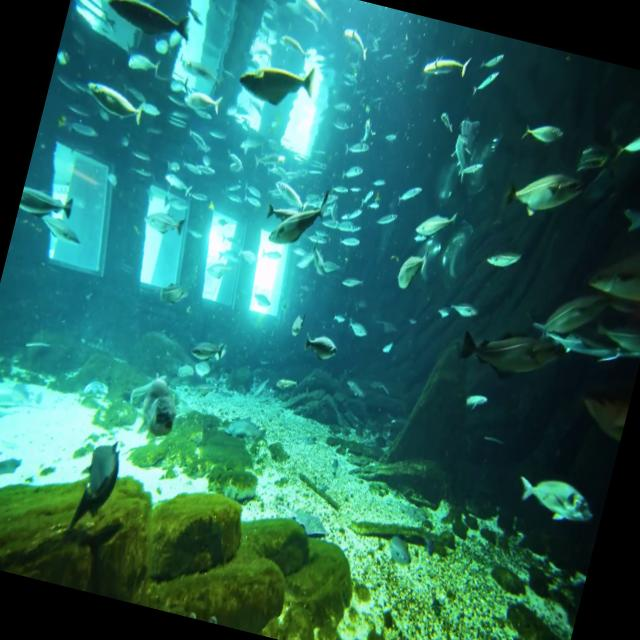fish: (452, 307, 570, 398), (498, 148, 592, 235), (229, 44, 318, 130), (63, 428, 130, 538), (508, 459, 602, 533), (531, 272, 612, 357), (260, 180, 335, 262), (575, 232, 640, 316), (72, 70, 153, 136), (100, 0, 192, 47), (476, 229, 532, 287), (180, 315, 233, 376), (17, 178, 83, 225), (446, 128, 491, 182), (517, 106, 567, 154), (420, 40, 472, 86), (408, 202, 456, 250), (611, 174, 640, 253), (278, 0, 343, 34), (333, 19, 378, 65), (147, 269, 191, 316), (36, 207, 84, 247), (610, 114, 640, 177), (465, 66, 502, 110), (336, 308, 374, 347), (260, 191, 297, 229), (448, 287, 484, 325), (300, 328, 338, 363), (372, 200, 407, 234), (458, 386, 491, 416), (392, 177, 422, 210), (478, 48, 508, 76), (434, 105, 460, 135), (435, 292, 457, 326)
